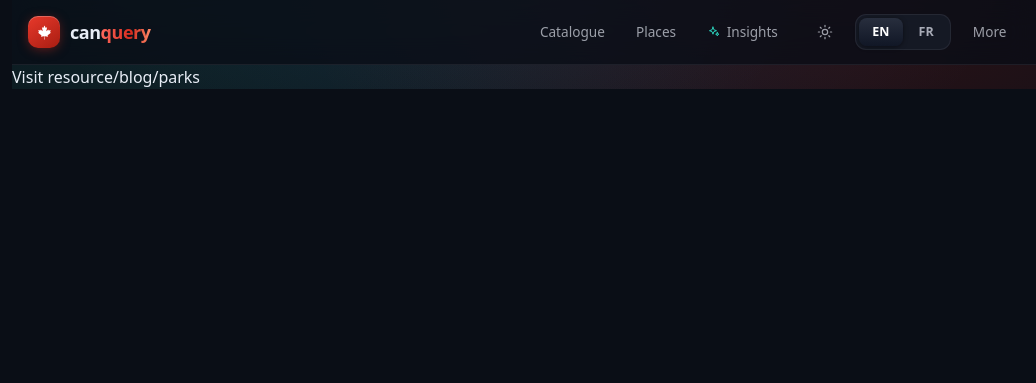
Test case: resolved blog language switching follows the paired article URL and closes navigation
Expected: the button "FR" is enabled, [905,18,947,46]
Click the button with aria-label "Open navigation menu": {"x": 990, "y": 32} [959,10,1020,54]
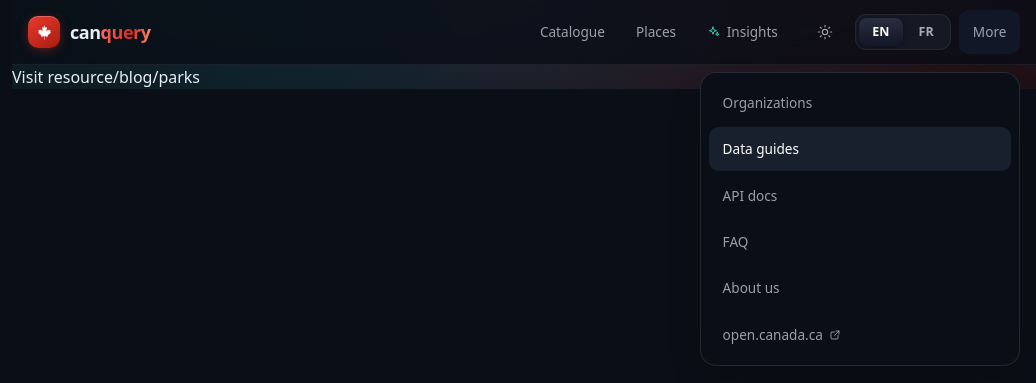
Click the button "FR": {"x": 926, "y": 32} [905,18,947,46]
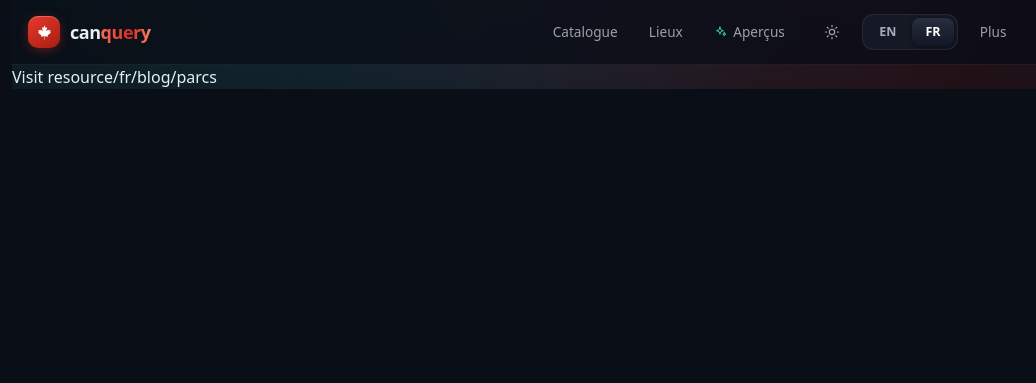
Expected: the text with test id "location" reads "/fr/blog/parcs", [113,66,217,88]
Expected: the navigation bar "Navigation" is gone
